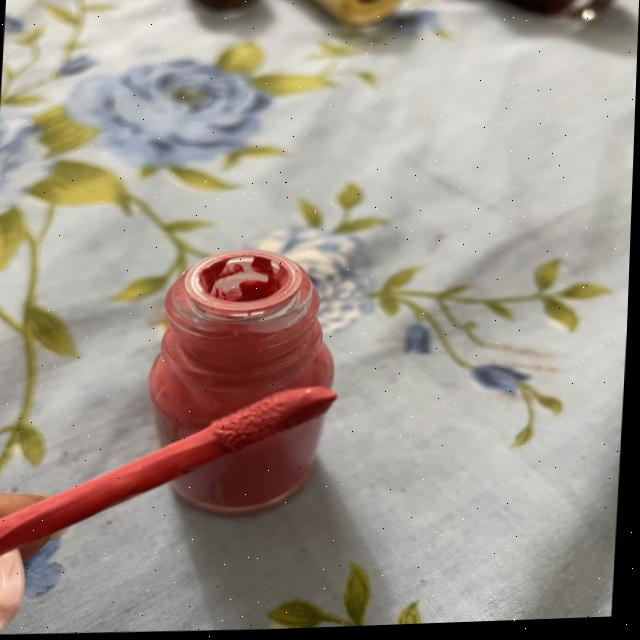Tint: (0, 340, 383, 604), (112, 223, 398, 554)
